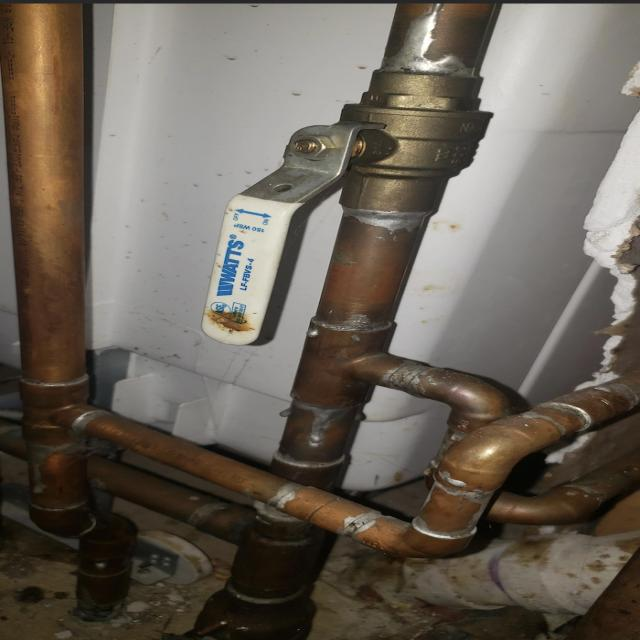Lever Handle Valve Threaded: (211, 69, 500, 347)
